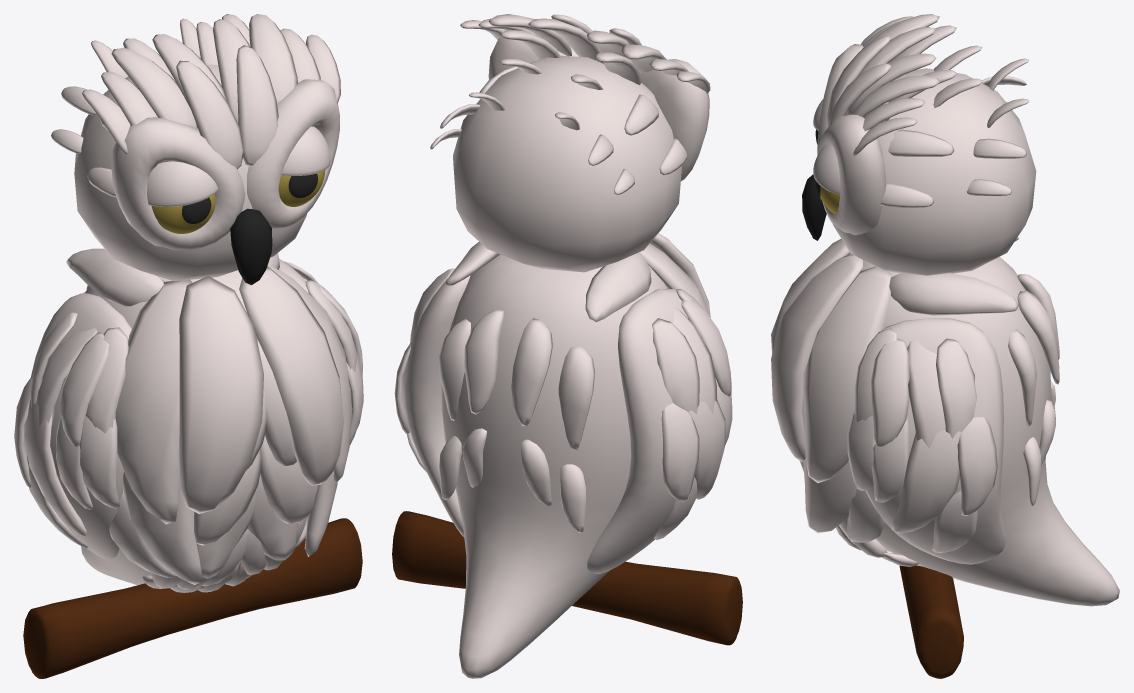
File: owl-rgr.fbx
The picture shows the model from 3 angles, left to right: view 1: azimuth 30°, elevation 25°; view 2: azimuth 150°, elevation 25°; view 3: azimuth 270°, elevation 25°; orthographic projection. The views are drawn at different scales.
Parts seen in each view (by area): view 1: Owl; view 2: Owl; view 3: Owl.
Part boxes in pixels (box(x1,y1,x2,y2)): Owl: box(14, 14, 363, 678); Owl: box(392, 14, 742, 678); Owl: box(771, 14, 1119, 678).
Size of the model in its own units: 108 by 187 by 105.
